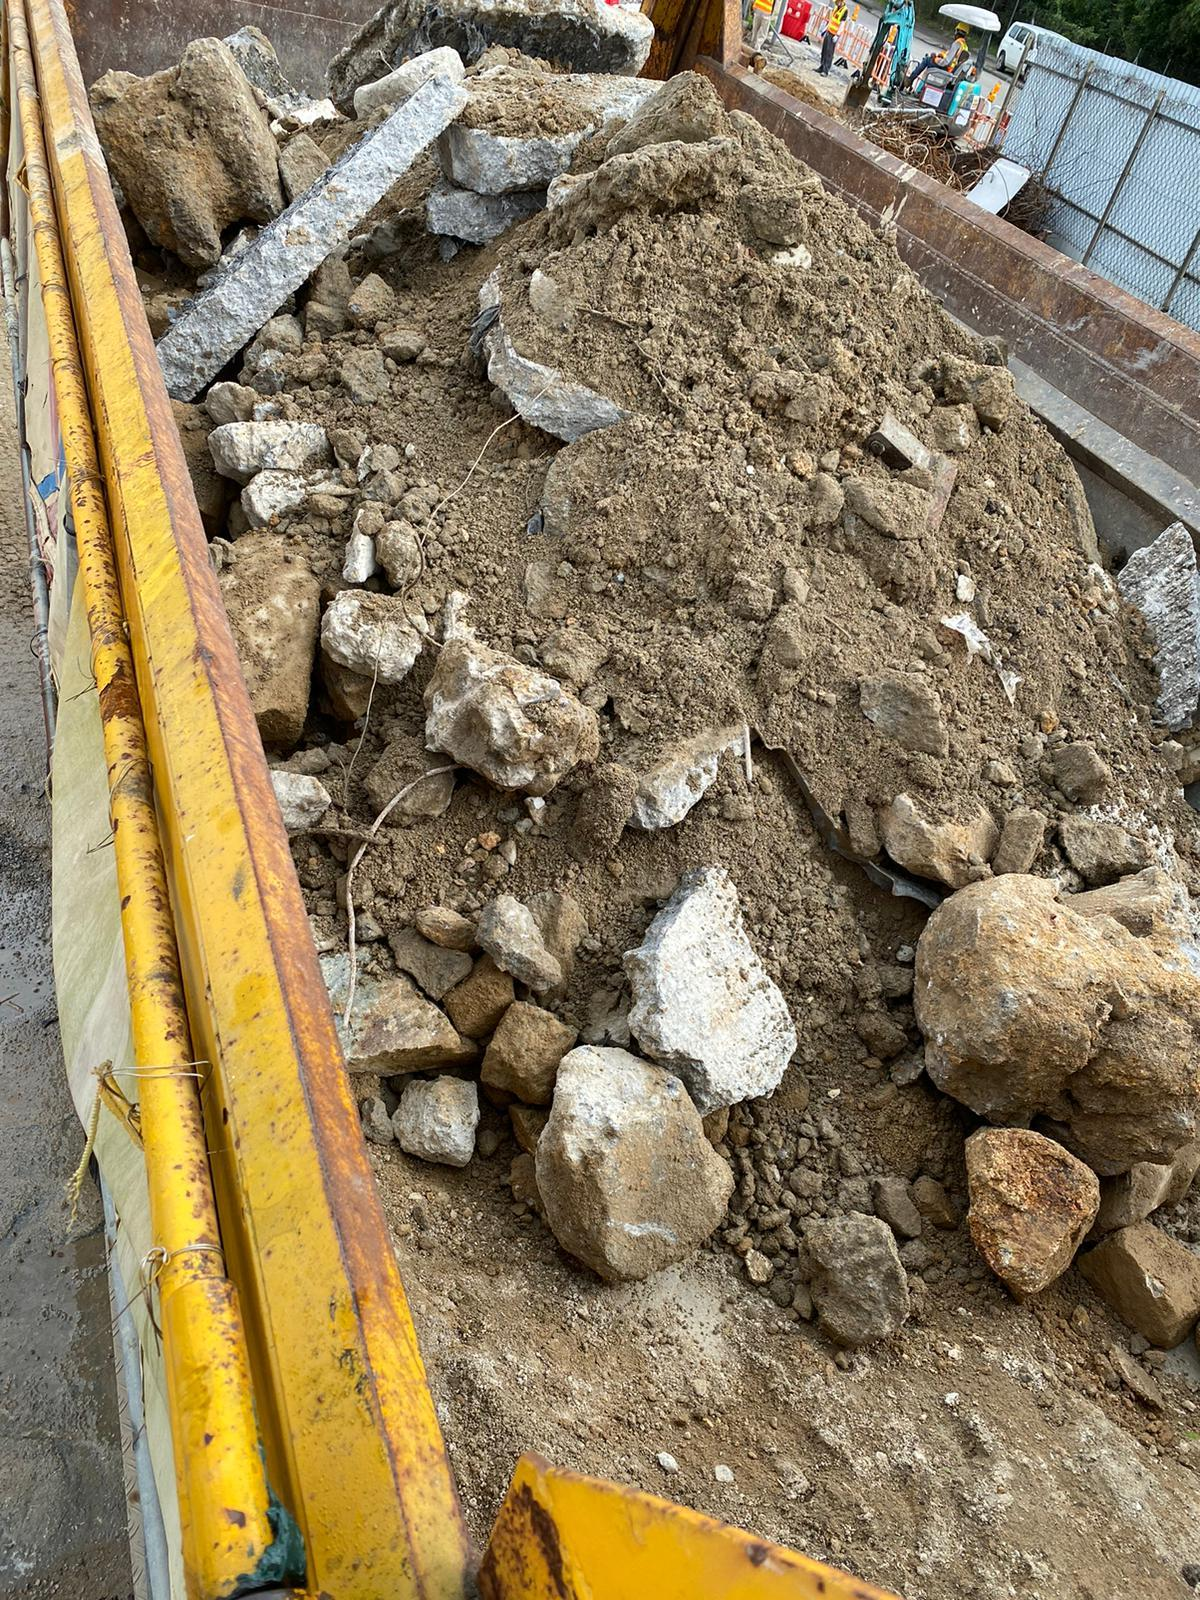dirt: (60, 13, 1197, 1595)
stone: (911, 869, 1198, 1175), (531, 1042, 736, 1283), (86, 33, 283, 270), (620, 862, 798, 1115), (421, 639, 600, 796), (207, 528, 321, 748), (962, 1124, 1100, 1296), (793, 1209, 911, 1346), (1076, 1220, 1199, 1348), (391, 1073, 480, 1167), (206, 418, 331, 481)
